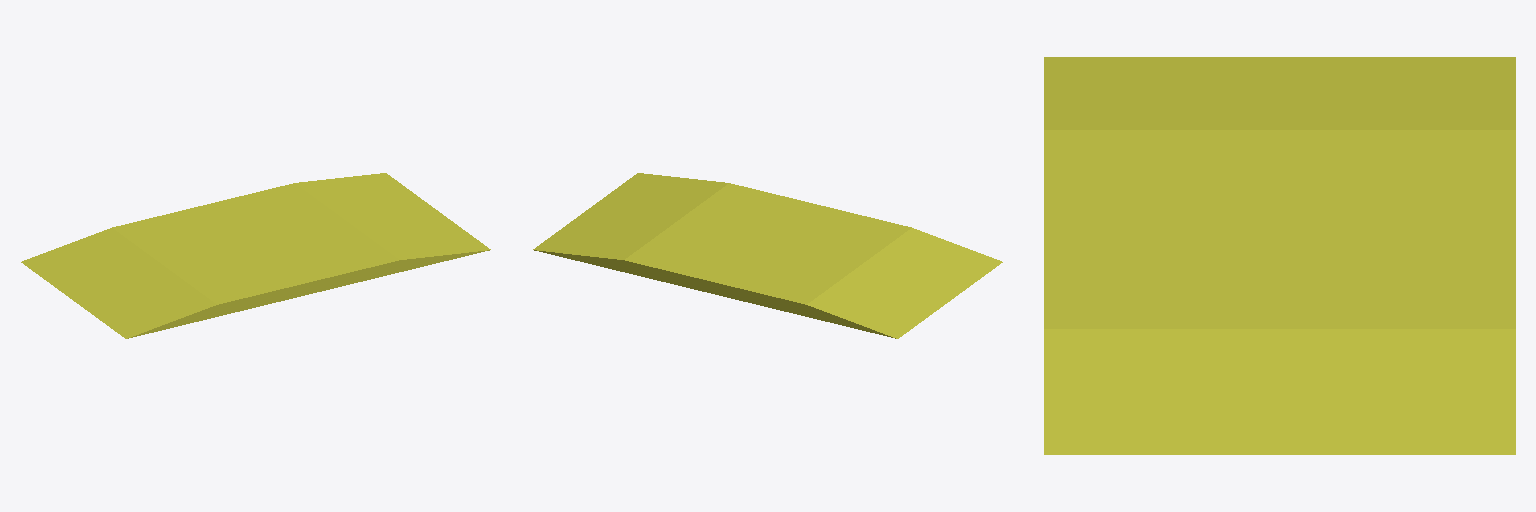
URDF robot description (Part1):
<?xml version="1.0" encoding="utf-8"?>
<!-- This URDF was automatically created by SolidWorks to URDF Exporter! Originally created by [author] ([email redacted]) 
     Commit Version: 1.5.1-0-g916b5db  Build Version: 1.5.7152.31018
     For more information, please see http://wiki.ros.org/sw_urdf_exporter -->
<robot
  name="Part1">
  <link
    name="ramp_5">
    <inertial>
      <origin
        xyz="7.5814E-16 7.67928484115444E-17 -0.005"
        rpy="0 0 0" />
      <mass
        value="500" />
      <inertia
        ixx="180.35"
        ixy="-6.0423E-14"
        ixz="4.7564E-15"
        iyy="450.35"
        iyz="1.08287265732095E-14"
        izz="630" />
    </inertial>
    <visual>
      <origin
        xyz="2.5 0 0"
        rpy="1.5707963267949 0 0" />
      <geometry>
        <mesh
          filename="package://ramp_5/meshes/ramp_5.STL" scale="1.5 2.1 1.5" />
      </geometry>
      <material
        name="">
        <color
          rgba= "0.8 0.8 0.3 1" />
        <texture
          filename="package://ramp_5/textures/" />
      </material>
    </visual>
    <collision>
      <origin
        xyz="2.5 0 0"
        rpy="1.5707963267949 0 0" />
      <geometry>
        <mesh
          filename="package://ramp_5/meshes/ramp_5.STL"  scale="1.5 2.1 1.5"/>
      </geometry>
    </collision>
  </link>
</robot>

--- Facts derived from the render (not from the file) ---
3 views of the same robot in one strip: view 1: azimuth 30°, elevation 25°; view 2: azimuth 150°, elevation 25°; view 3: azimuth 270°, elevation 25° (orthographic).
Robot: Part1 — 1 links, 0 joints (none); root link ramp_5; default pose: every joint at zero.
Visible links, largest first — view 1: ramp_5; view 2: ramp_5; view 3: ramp_5.
Boxes of the visible links, x1,y1,x2,y2 form: ramp_5: (21,173,490,338); ramp_5: (533,173,1002,338); ramp_5: (1044,57,1515,454).
Bounding box of the posed robot: 6 × 3 × 0.189 m (x, y, z).
1 mesh visuals loaded from 1 distinct referenced files (1 binary STL).